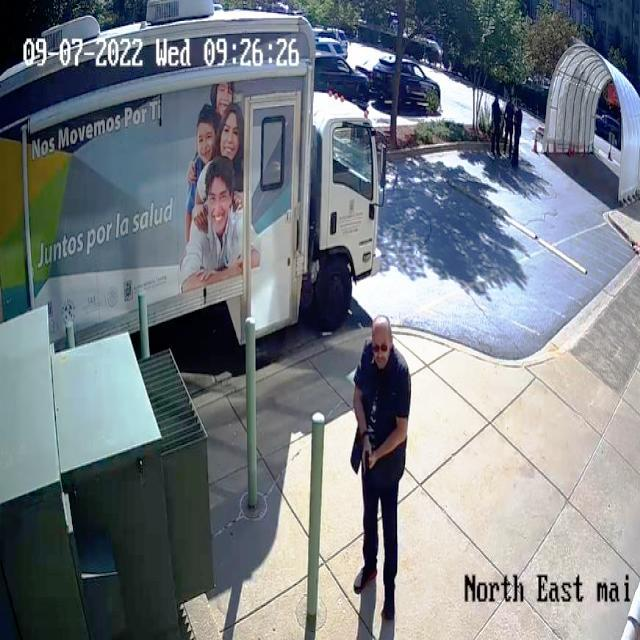Gun: (355, 435, 384, 484)
